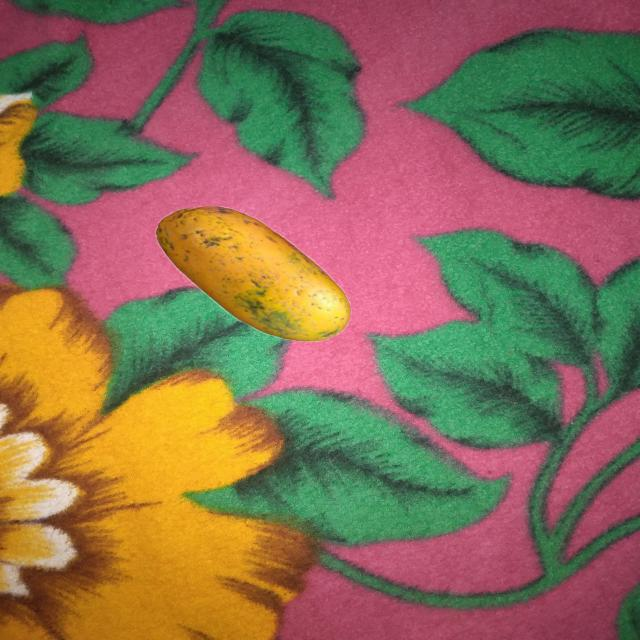Pepaya rippen: (150, 199, 358, 347)
